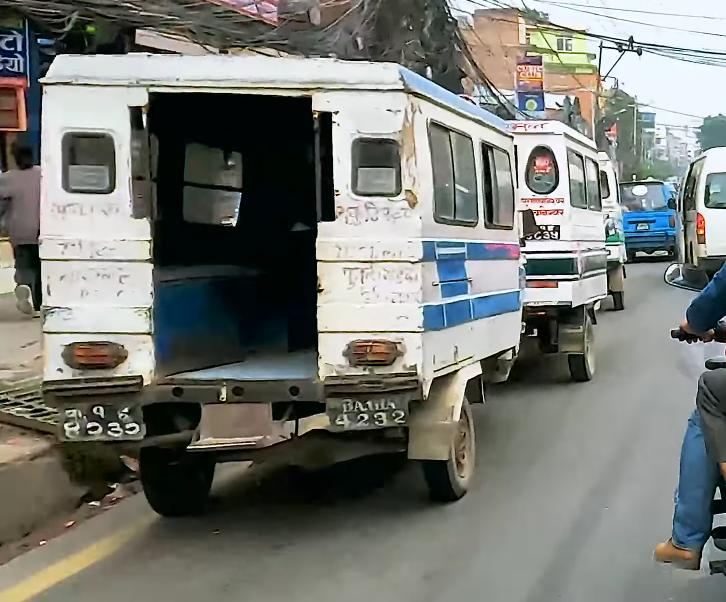tempo: (25, 37, 529, 525), (456, 95, 633, 394)
